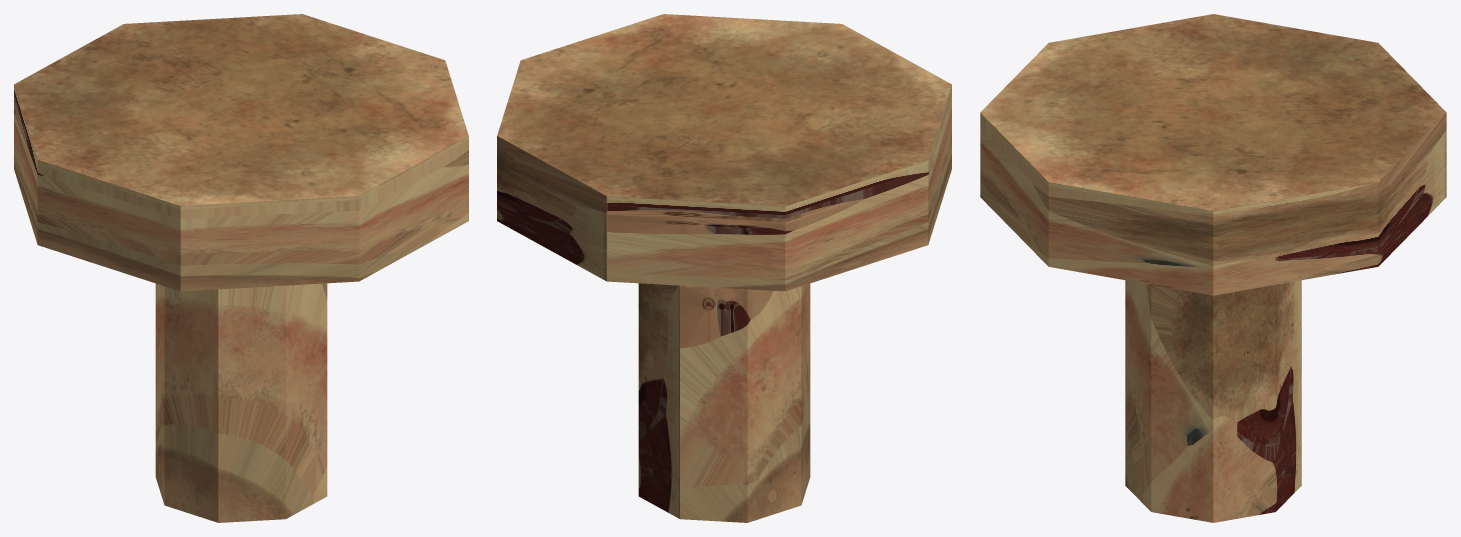
File: bolt.glb
3 renders of one model, left to right at view 1: azimuth 30°, elevation 25°; view 2: azimuth 150°, elevation 25°; view 3: azimuth 270°, elevation 25°, orthographic.
Visible parts, largest first — view 1: Cylinder, Cylinder.001; view 2: Cylinder, Cylinder.001; view 3: Cylinder, Cylinder.001.
Boxes of the visible parts, x1,y1,x2,y2 form: Cylinder: (14,14,468,291); Cylinder.001: (155,283,327,522); Cylinder: (497,14,951,291); Cylinder.001: (638,283,810,522); Cylinder: (980,14,1446,295); Cylinder.001: (1125,280,1301,522).
Bounding box in the file's own units: 0.05 × 0.0441 × 0.05.
Materials: 1 (1 with a texture image).
